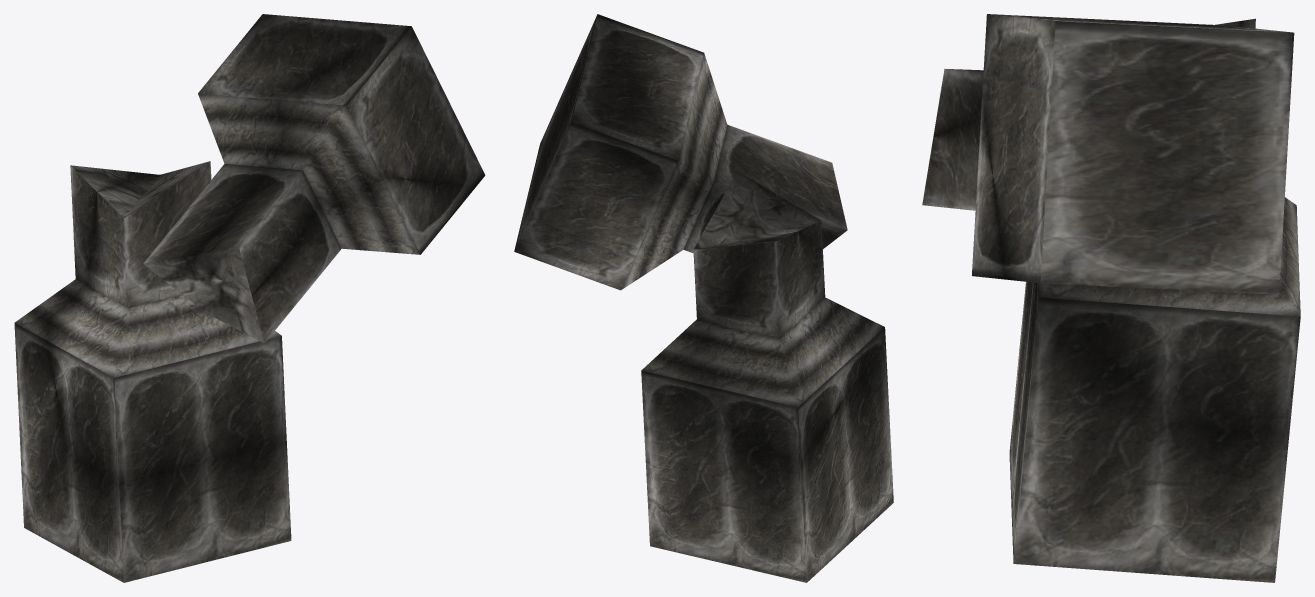
File: column-B-destr_05.obj
3 renders of one model, left to right at view 1: azimuth 30°, elevation 25°; view 2: azimuth 150°, elevation 25°; view 3: azimuth 270°, elevation 25°, orthographic. The views are drawn at different scales.
Parts seen in each view (by area): view 1: (null); view 2: (null); view 3: (null).
Part boxes in pixels (x1,y1,x2,y2): (null): (14,14,485,582); (null): (514,14,893,582); (null): (922,14,1300,582).
Size of the model in its own units: 2.77 by 3.42 by 1.8.
